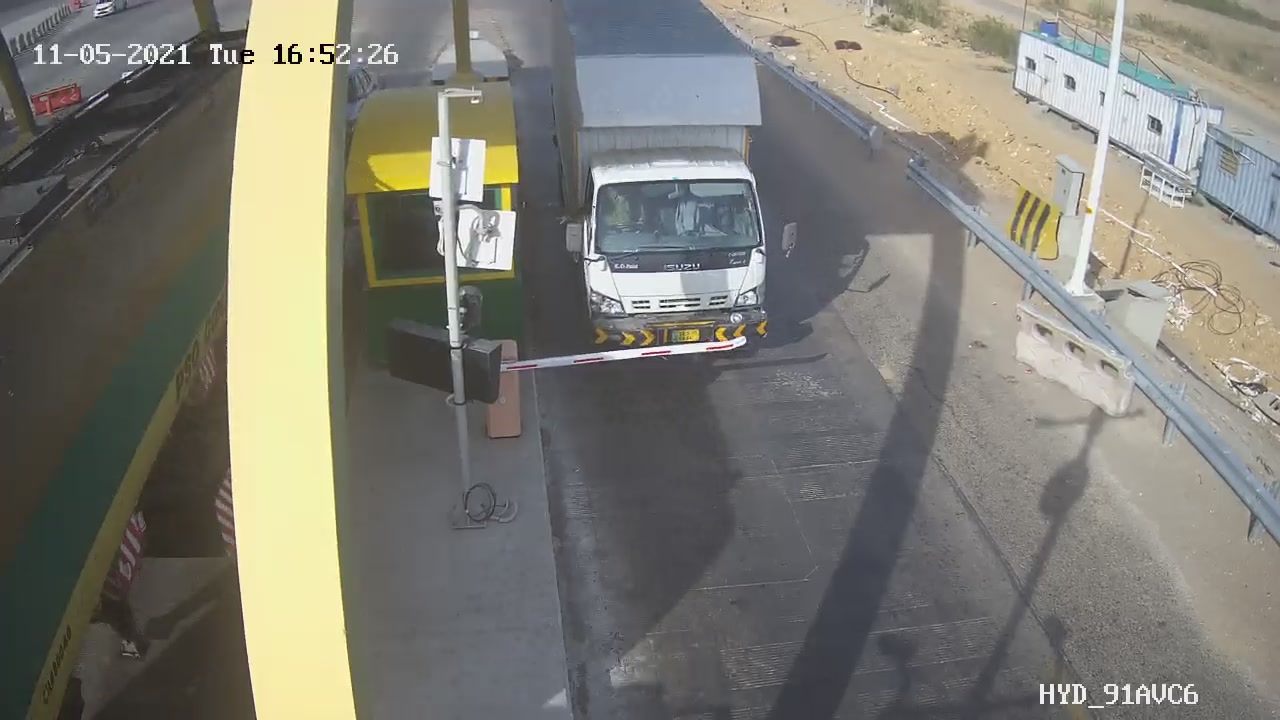F5: (531, 3, 822, 387)
